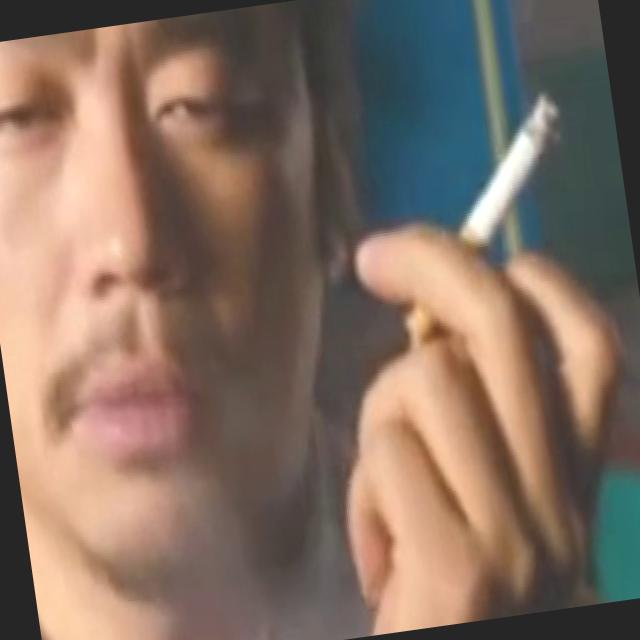smoke: (361, 65, 606, 361)
